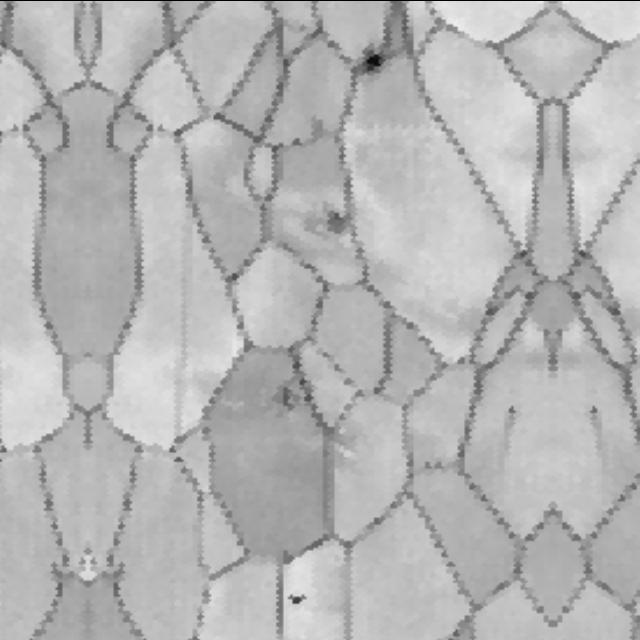good_void: (265, 370, 316, 414), (353, 38, 388, 97), (300, 203, 351, 241), (304, 113, 330, 148), (500, 402, 519, 430), (586, 402, 605, 430), (284, 586, 308, 607)
